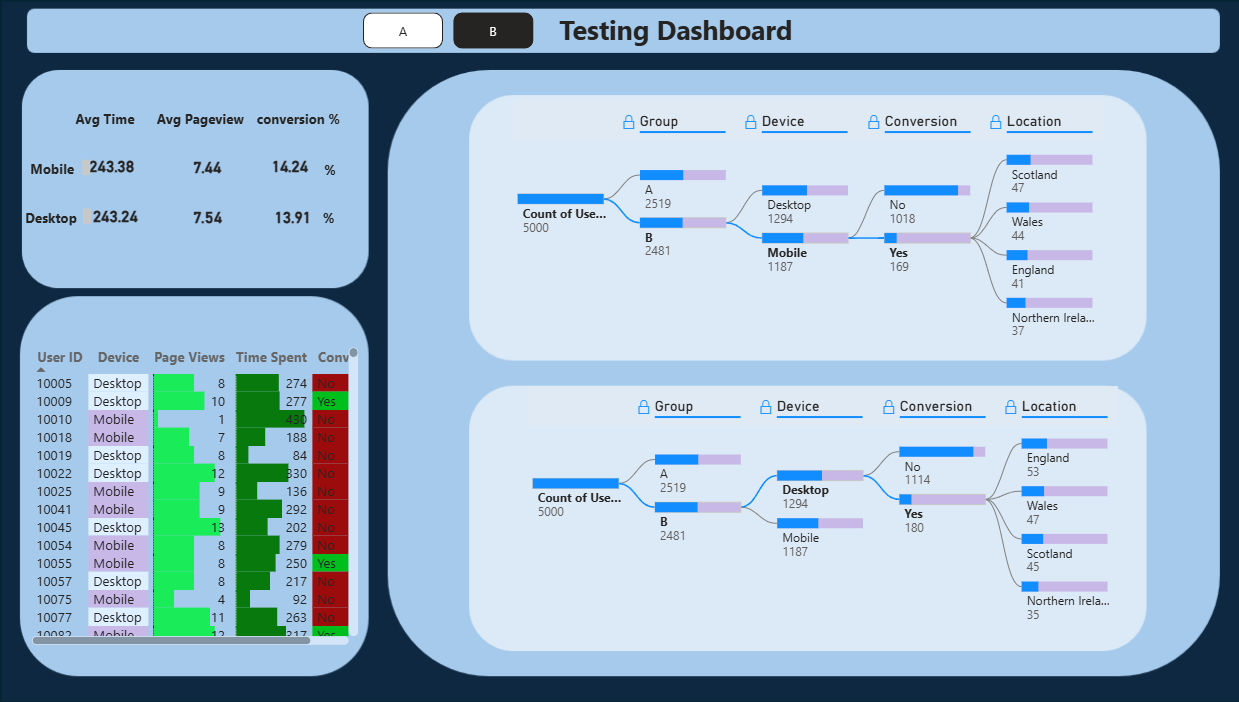

The page's visual inventory and layout, read from the dashboard file:
{"tool":"powerbi","page":{"name":"B","canvas":[1280,720],"ordinal":1},"visuals":[{"type":"image","box":[0,0,1280,720],"z":0},{"type":"decompositionTreeVisual","fields":{"Analyze":["CountNonNull(ab_testing (2).User ID)"],"ExplainBy":["ab_testing (2).Group","ab_testing (2).Device","ab_testing (2).Conversion","ab_testing (2).Location"]},"box":[525.2,101,601.6,258.3],"z":1000},{"type":"decompositionTreeVisual","fields":{"Analyze":["CountNonNull(ab_testing (2).User ID)"],"ExplainBy":["ab_testing (2).Group","ab_testing (2).Device","ab_testing (2).Conversion","ab_testing (2).Location"]},"box":[539.6,386.7,600.2,259.7],"z":2000},{"type":"tableEx","fields":{"Values":["ab_testing (2).User ID","ab_testing (2).Device","Sum(ab_testing (2).Page Views)","Sum(ab_testing (2).Time Spent)","ab_testing (2).Conversion"]},"box":[42.5,347.5,337.5,307.5],"z":3000},{"type":"card","fields":{"Values":["Avg(ab_testing (2).Time Spent)"]},"box":[99.6,147.2,57.7,50.5],"z":4000},{"type":"textbox","box":[88,109.6,80.8,37.5],"z":5000},{"type":"textbox","box":[42.5,160,70,26.2],"z":6000},{"type":"card","fields":{"Values":["Avg(ab_testing (2).Page Views)"]},"box":[196.2,154.4,56.3,37.5],"z":7000},{"type":"textbox","box":[168.8,109.6,111.1,37.5],"z":8000},{"type":"card","fields":{"Values":["ab_testing.Conversion Rate"]},"box":[280.2,155,54,35.6],"z":9000},{"type":"textbox","box":[268.4,109.6,96.7,37.5],"z":10000},{"type":"textbox","box":[37.5,208.8,75,26.2],"z":11000},{"type":"card","fields":{"Values":["Avg(ab_testing (2).Time Spent)"]},"box":[103.9,196.9,57.5,50.1],"z":12000},{"type":"card","fields":{"Values":["Avg(ab_testing (2).Page Views)"]},"box":[196.3,204.8,56.9,37],"z":13000},{"type":"card","fields":{"Values":["ab_testing.Conversion Rate"]},"box":[280.2,206.2,59.7,35.6],"z":14000},{"type":"textbox","box":[335.6,160.7,34.1,29.9],"z":15000},{"type":"textbox","box":[335.1,209.1,29.3,31.8],"z":16000},{"type":"pageNavigator","box":[379.7,17.1,170.7,37],"z":17000},{"type":"textbox","box":[571.7,11.4,254.6,48.4],"z":18000}]}

Visuals, with their boxes in screenshot pixels (x1, y1, x2, y2), scaled from the page's 1280x720 canvas onto the 1239x702 screenshot:
image: l=0, t=0, r=1238, b=701
decompositionTreeVisual - CountNonNull(ab_testing (2).User ID) x ab_testing (2).Group: l=508, t=98, r=1091, b=350
decompositionTreeVisual - CountNonNull(ab_testing (2).User ID) x ab_testing (2).Group: l=522, t=377, r=1103, b=630
tableEx - ab_testing (2).User ID x ab_testing (2).Device: l=41, t=339, r=368, b=639
card - Avg(ab_testing (2).Time Spent): l=96, t=144, r=152, b=193
textbox: l=85, t=107, r=163, b=143
textbox: l=41, t=156, r=109, b=182
card - Avg(ab_testing (2).Page Views): l=190, t=151, r=244, b=187
textbox: l=163, t=107, r=271, b=143
card - ab_testing.Conversion Rate: l=271, t=151, r=323, b=186
textbox: l=260, t=107, r=353, b=143
textbox: l=36, t=204, r=109, b=229
card - Avg(ab_testing (2).Time Spent): l=101, t=192, r=156, b=241
card - Avg(ab_testing (2).Page Views): l=190, t=200, r=245, b=236
card - ab_testing.Conversion Rate: l=271, t=201, r=329, b=236
textbox: l=325, t=157, r=358, b=186
textbox: l=324, t=204, r=353, b=235
pageNavigator: l=368, t=17, r=533, b=53
textbox: l=553, t=11, r=800, b=58
